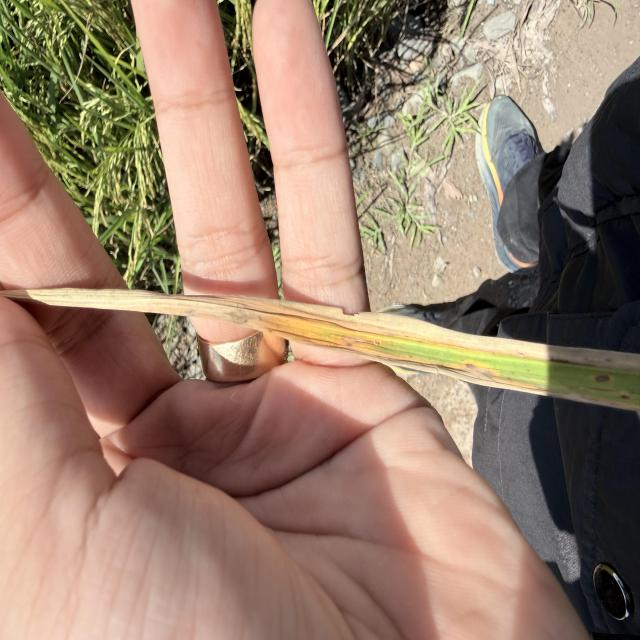Chay bia la: (0, 286, 640, 377), (272, 328, 640, 411)
